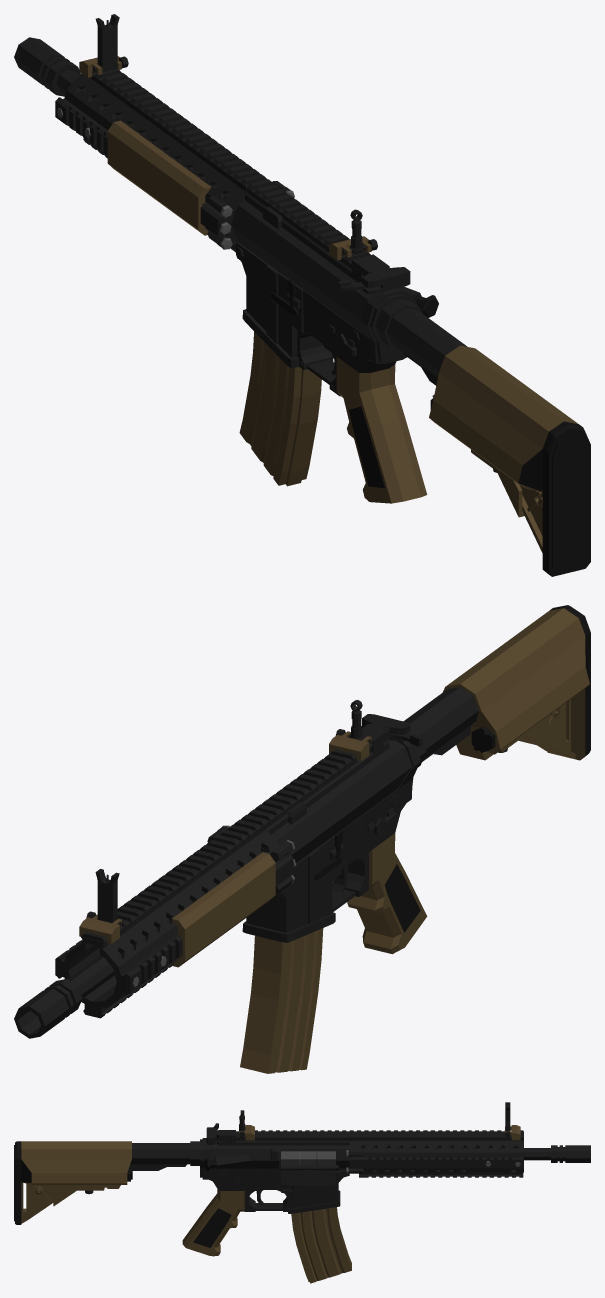
The picture shows the model from 3 angles, top to bottom: view 1: azimuth 30°, elevation 25°; view 2: azimuth 150°, elevation 25°; view 3: azimuth 270°, elevation 25°; orthographic projection. The views are drawn at different scales.
Visible parts, largest first — view 1: M4A1, Stock, Magazine, Front Sight, ChargingHandle, Rear Sight; view 2: M4A1, Stock, Magazine, Front Sight, Rear Sight, ChargingHandle; view 3: M4A1, Stock, Magazine, Bolt, Front Sight, Rear Sight.
Part boxes in pixels (bbox=[...]): M4A1: bbox=[14, 37, 467, 503]; Stock: bbox=[429, 345, 590, 576]; Magazine: bbox=[239, 331, 321, 486]; Front Sight: bbox=[79, 14, 128, 77]; ChargingHandle: bbox=[338, 267, 410, 294]; Rear Sight: bbox=[329, 209, 377, 260]; M4A1: bbox=[14, 687, 478, 1038]; Stock: bbox=[443, 605, 590, 760]; Magazine: bbox=[240, 928, 323, 1073]; Front Sight: bbox=[79, 869, 121, 943]; Rear Sight: bbox=[329, 700, 371, 761]; ChargingHandle: bbox=[362, 714, 422, 746]; M4A1: bbox=[129, 1130, 590, 1256]; Stock: bbox=[14, 1141, 132, 1224]; Magazine: bbox=[291, 1207, 351, 1283]; Bolt: bbox=[281, 1151, 335, 1165]; Front Sight: bbox=[505, 1102, 520, 1140]; Rear Sight: bbox=[239, 1110, 254, 1140].
Bounding box in the file's own units: 75.81 × 258 × 768.
